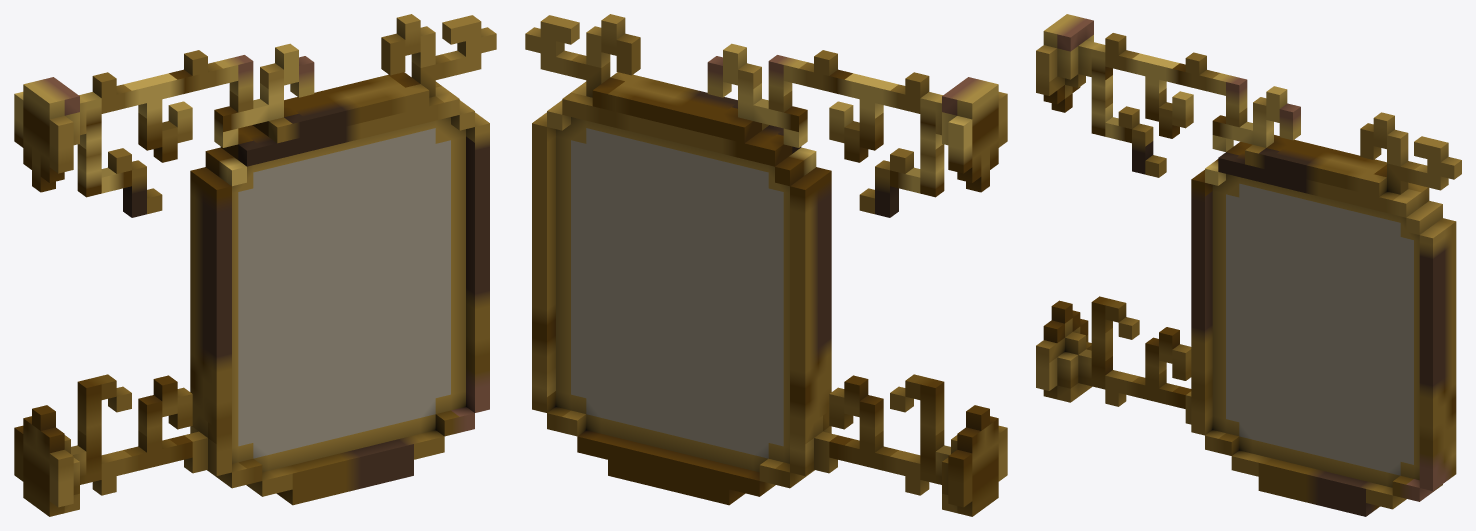
3 views of the same model, side by side, from view 1: azimuth 30°, elevation 25°; view 2: azimuth 150°, elevation 25°; view 3: azimuth 330°, elevation 25° (orthographic). The views are drawn at different scales.
Parts seen in each view (by area): view 1: Billboard_7; view 2: Billboard_7; view 3: Billboard_7.
Boxes of the visible parts, x1,y1,x2,y2 form: Billboard_7: [14, 14, 496, 516]; Billboard_7: [525, 14, 1007, 516]; Billboard_7: [1036, 14, 1461, 516].
Size of the model in its own units: 1.5 by 1.45 by 0.25.
1 material, 1 textured.
